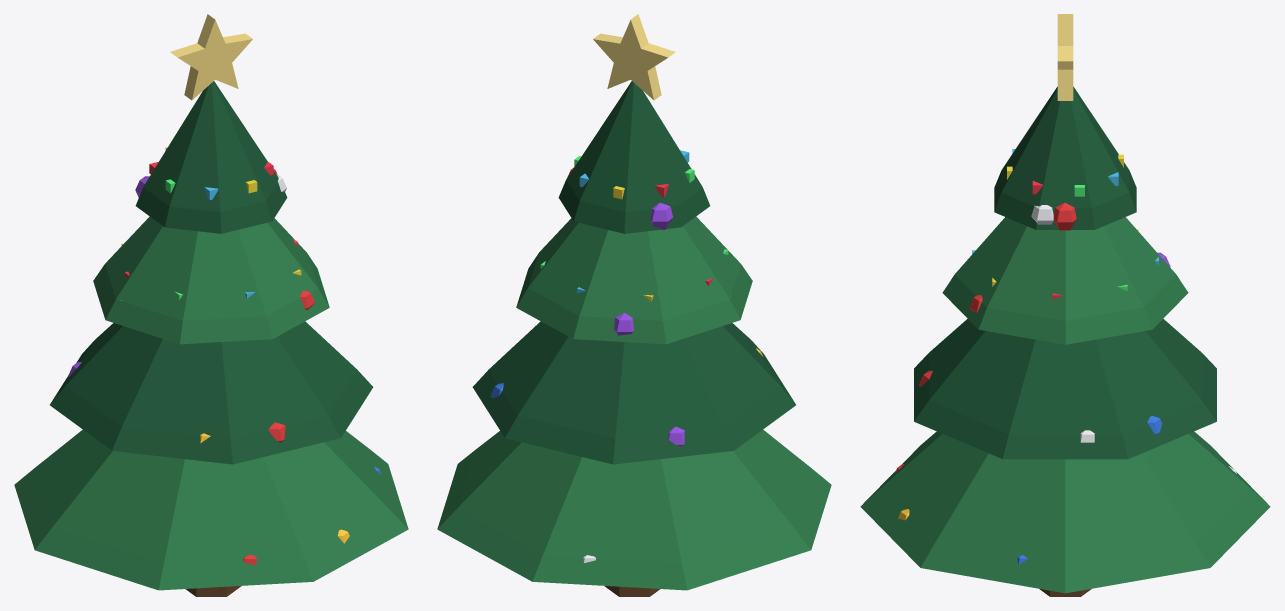
The model's file is ChristmasTreeDecorated.fbx.
3 views of the same model, side by side, from view 1: azimuth 30°, elevation 25°; view 2: azimuth 150°, elevation 25°; view 3: azimuth 270°, elevation 25° (orthographic).
Visible parts, largest first — view 1: ChristmasTreeDecorated; view 2: ChristmasTreeDecorated; view 3: ChristmasTreeDecorated.
Part boxes in pixels (<box>): ChristmasTreeDecorated: <box>14,14,408,596</box>; ChristmasTreeDecorated: <box>437,14,831,596</box>; ChristmasTreeDecorated: <box>860,14,1270,596</box>.
Bounding box in the file's own units: 8 × 12.3 × 8.
Materials: 1 (1 with a texture image).
